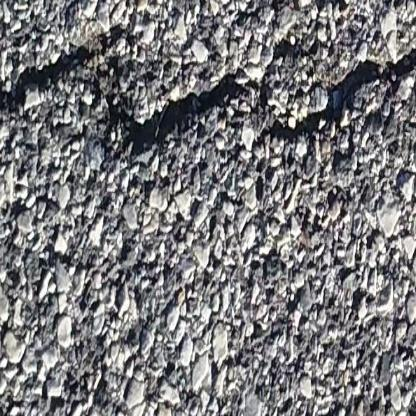Cracks: (0, 28, 416, 165)
